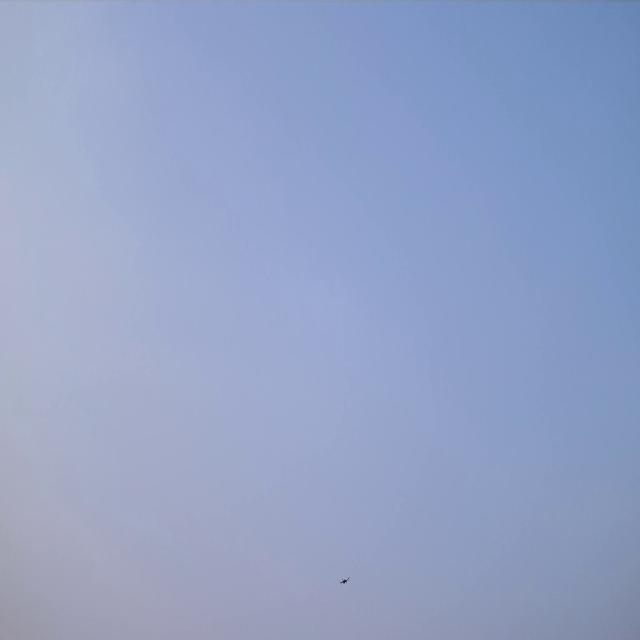UAV: (340, 576, 350, 586)
